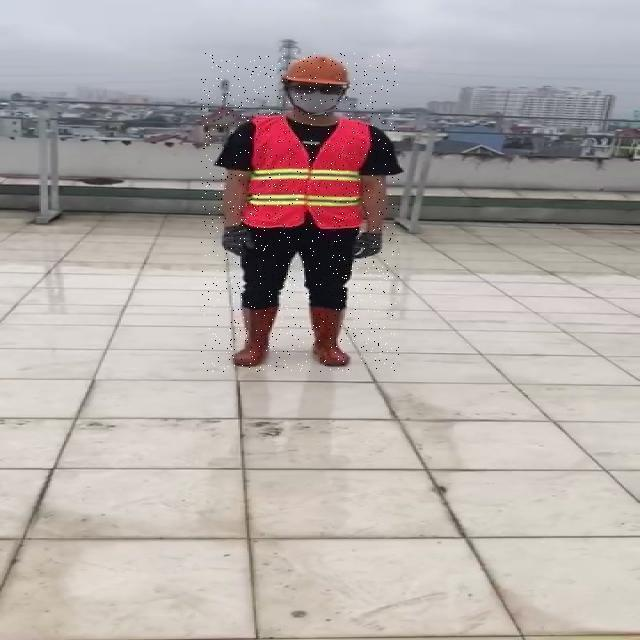gloves: (220, 223, 255, 259), (350, 229, 384, 260)
goggles: (289, 83, 342, 96)
helmet: (281, 54, 356, 87)
safety_vest: (240, 117, 372, 229)
